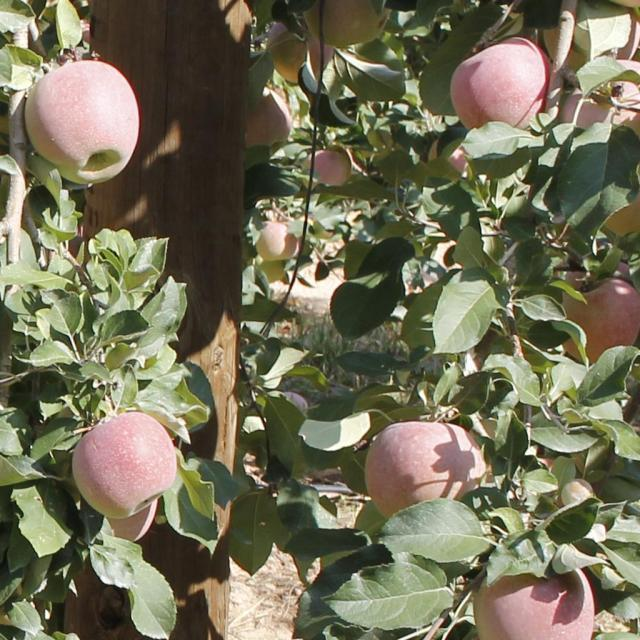apple: (24, 59, 139, 186), (72, 412, 176, 520), (366, 421, 485, 515), (452, 37, 547, 126), (474, 572, 594, 639), (566, 279, 639, 360), (306, 0, 383, 48), (248, 89, 291, 146), (256, 221, 299, 261), (314, 150, 351, 185)
